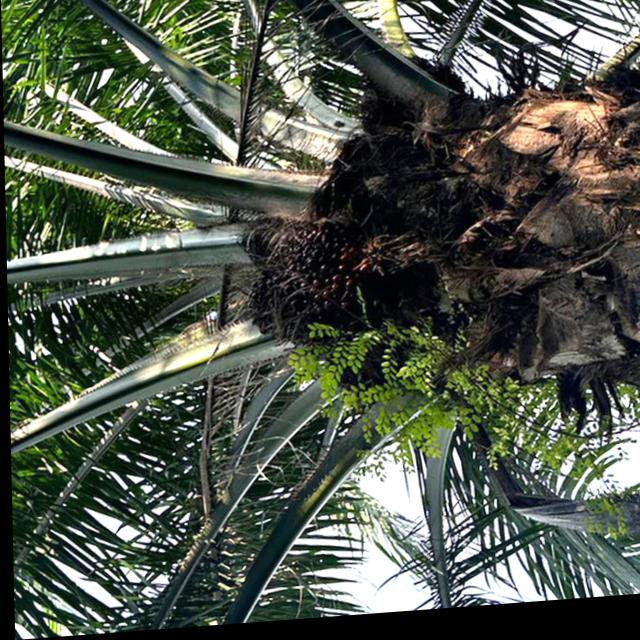unripe: (251, 205, 420, 378)
